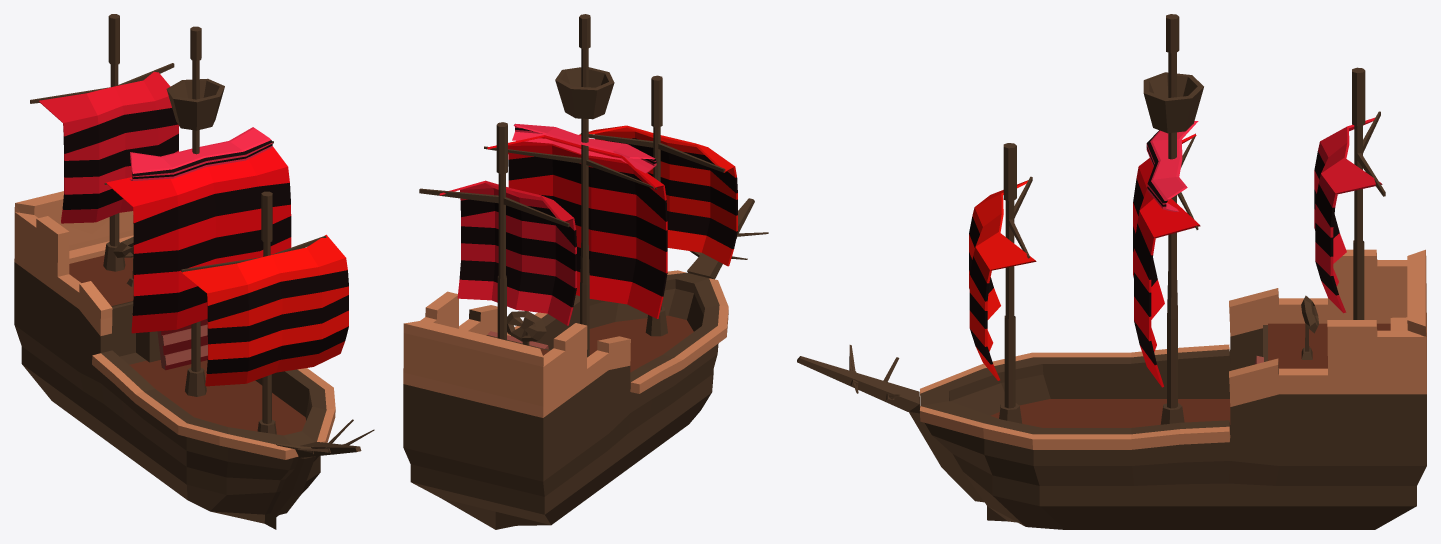
The model's file is bigship2.fbx.
3 views of the same model, side by side, from view 1: azimuth 30°, elevation 25°; view 2: azimuth 150°, elevation 25°; view 3: azimuth 270°, elevation 25° (orthographic). The views are drawn at different scales.
Visible parts, largest first — view 1: Cube, Plane, Plane.003, Plane.001, Cylinder, Plane.002, Cylinder.001, Cylinder.002; view 2: Cube, Plane, Plane.001, Plane.003, Cylinder, Cylinder.001, Cylinder.002, Plane.002; view 3: Cube, Cylinder, Plane, Plane.003, Plane.001, Cylinder.002, Cylinder.001, Plane.002.
Boxes of the visible parts, x1,y1,x2,y2 form: Cube: (14,191,361,529); Plane: (106,146,291,333); Plane.003: (181,234,348,386); Plane.001: (39,72,178,223); Cylinder: (104,26,273,396); Plane.002: (130,127,272,180); Cylinder.001: (30,14,174,271); Cylinder.002: (181,191,326,434); Cube: (403,198,754,529); Plane: (487,135,667,318); Plane.001: (439,180,576,325); Plane.003: (579,125,737,266); Cylinder: (484,14,657,357); Cylinder.001: (419,122,569,340); Cylinder.002: (580,75,725,336); Plane.002: (512,123,656,173); Cube: (797,249,1426,529); Cylinder: (1143,14,1203,424); Plane: (1133,134,1200,387); Plane.003: (969,180,1036,380); Plane.001: (1314,117,1382,313); Cylinder.002: (999,143,1032,423); Cylinder.001: (1352,67,1385,319); Plane.002: (1146,121,1198,211).
Bounding box in the file's own units: 661 × 1642 × 1860.
